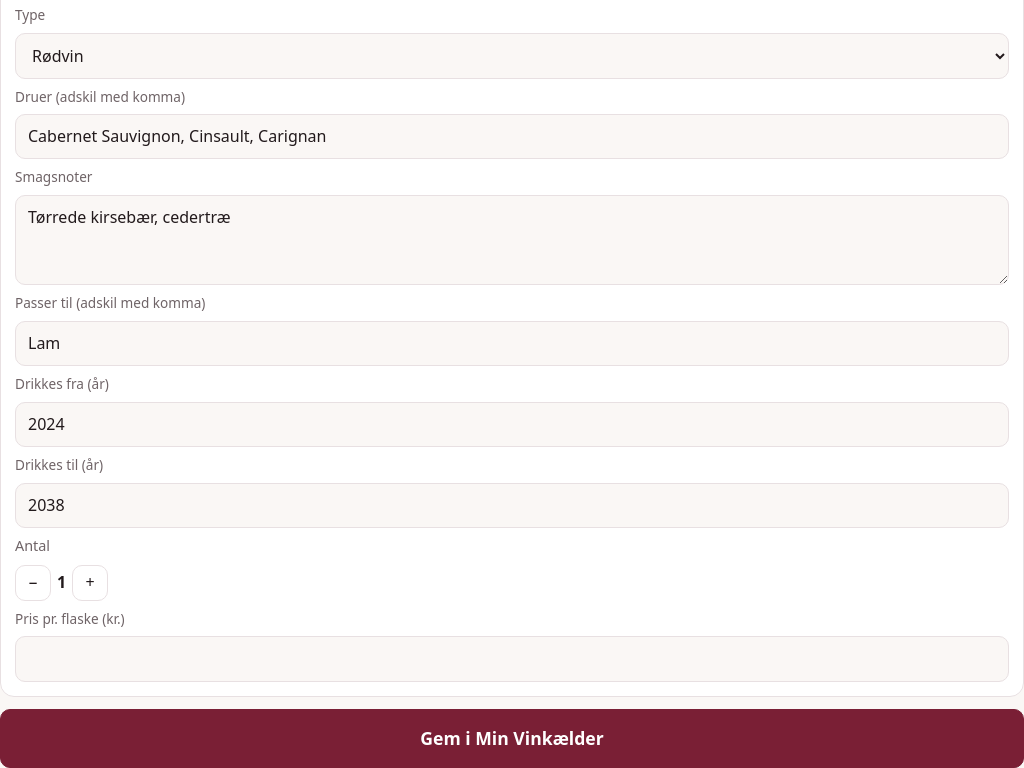
Test: scan fills form; nothing saved until Gem pressed
The image size is (1024, 768).
Earlier steps of the test are not shown.
(page scrolled)
Click the button named "Én flaske mere": (90, 583) 72,565 -> 108,601
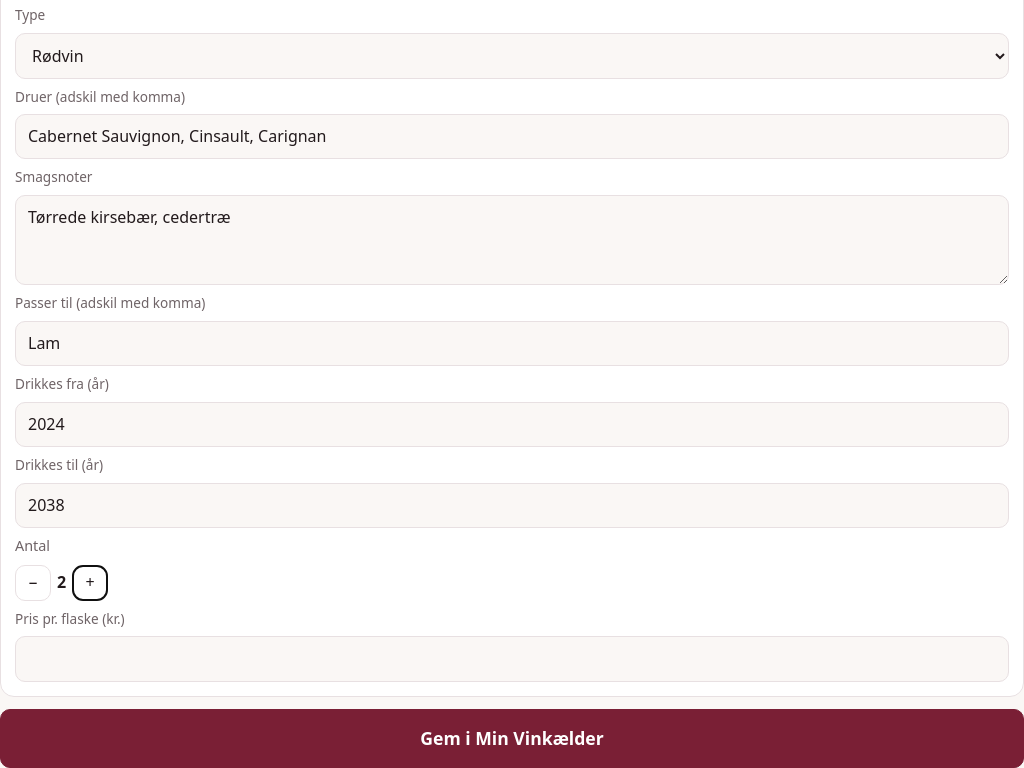
In the field labelled "Pris pr. flaske (kr.)": (512, 659) 15,636 -> 1009,682, type "250"
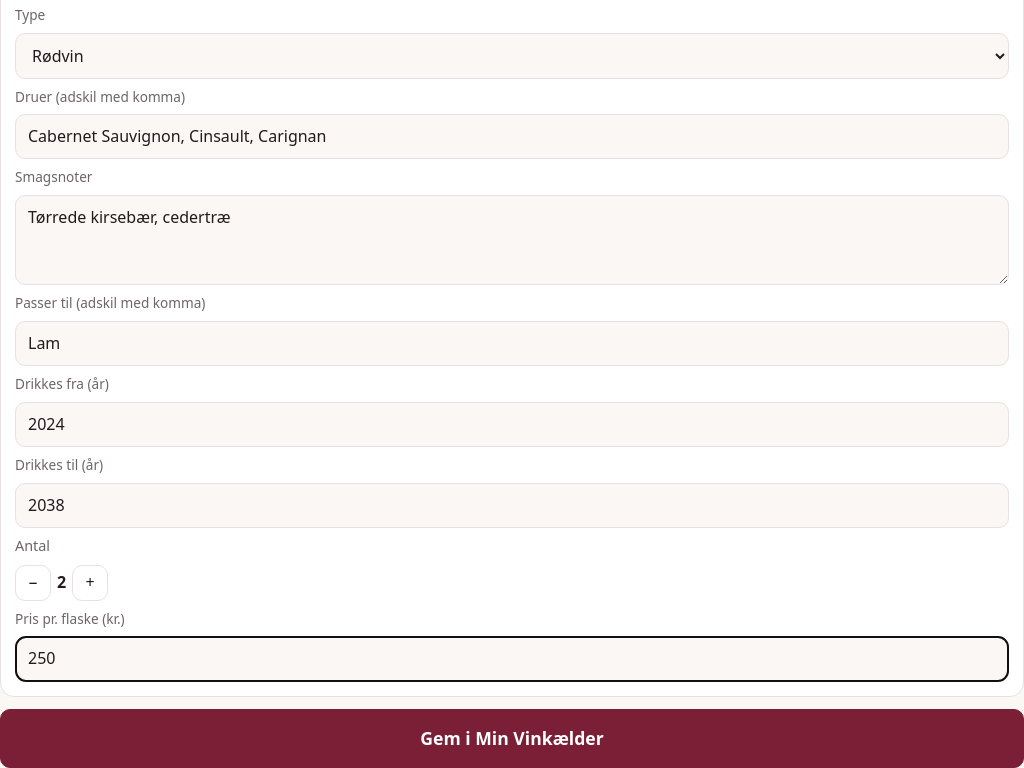
Click the button "Gem i Min Vinkælder": (512, 738) 0,709 -> 1023,767
(page scrolled)
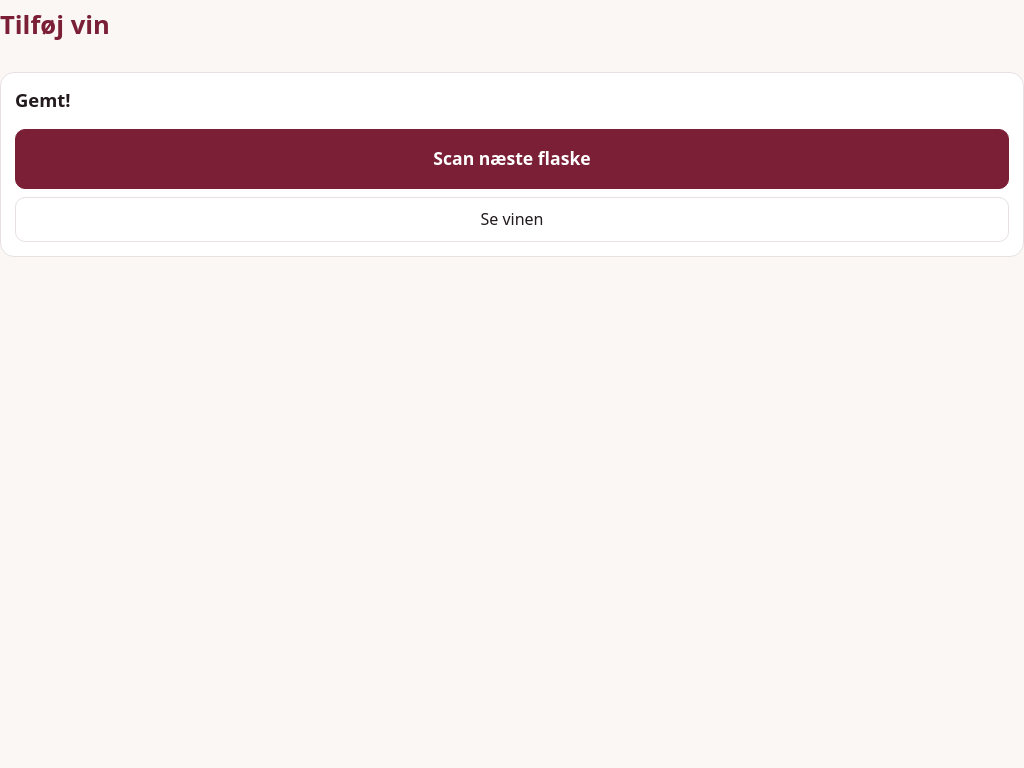
Result: the heading "Gemt!" is shown at 15,86 -> 70,112
